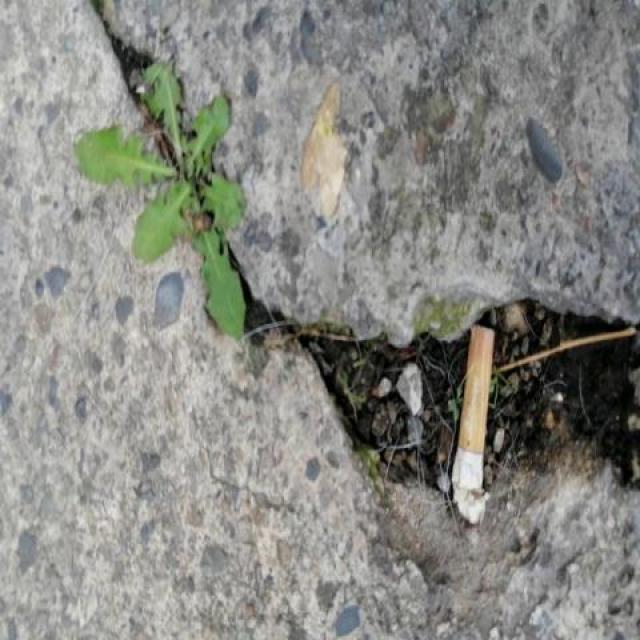non-organic waste: (445, 320, 499, 528)
